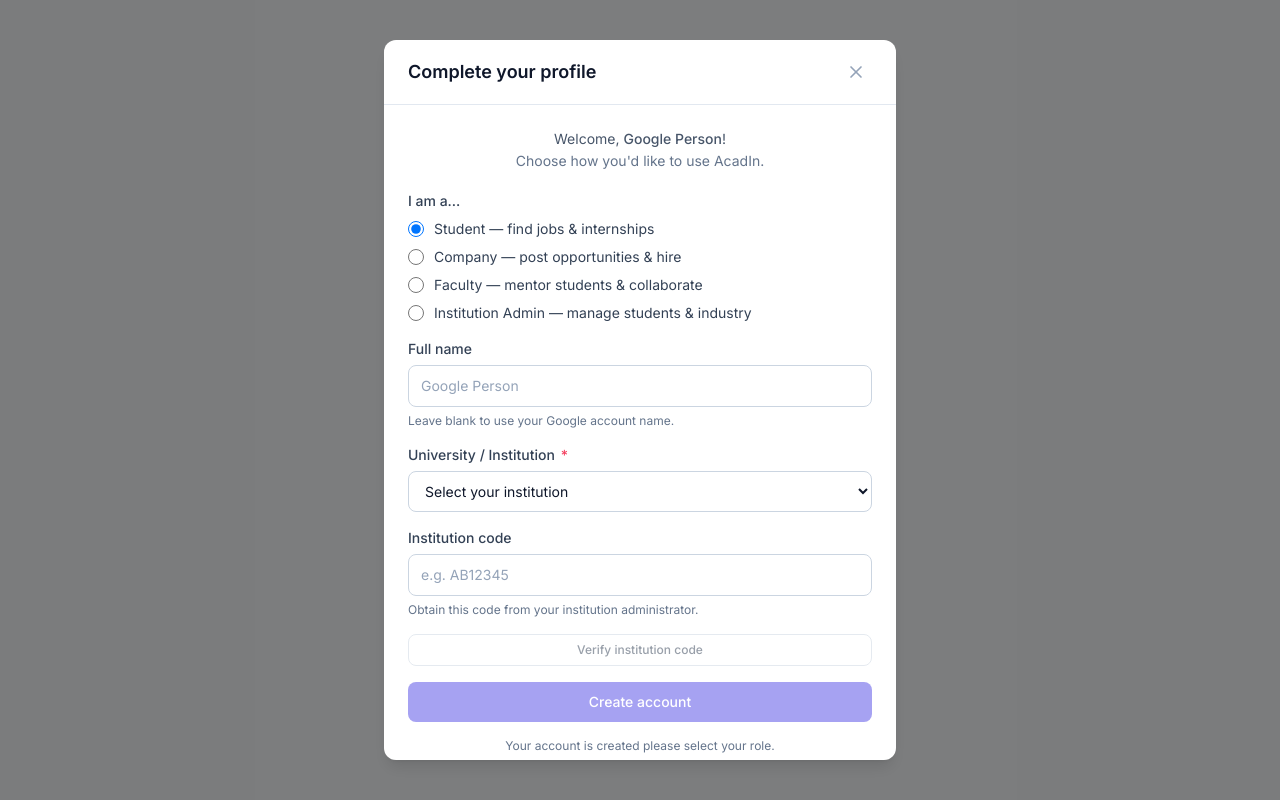
Test case: GoogleOnboardingModal — role switching in both directions › COMPANY → FACULTY → COMPANY: errors from one role do not linger on another
The width and height of the screenshot is (1280, 800).
Later steps or results of the test are not shown.
Click the radio button labelled "Company — post opportunities & hire": coordinates (416, 257) [408,249,424,265]
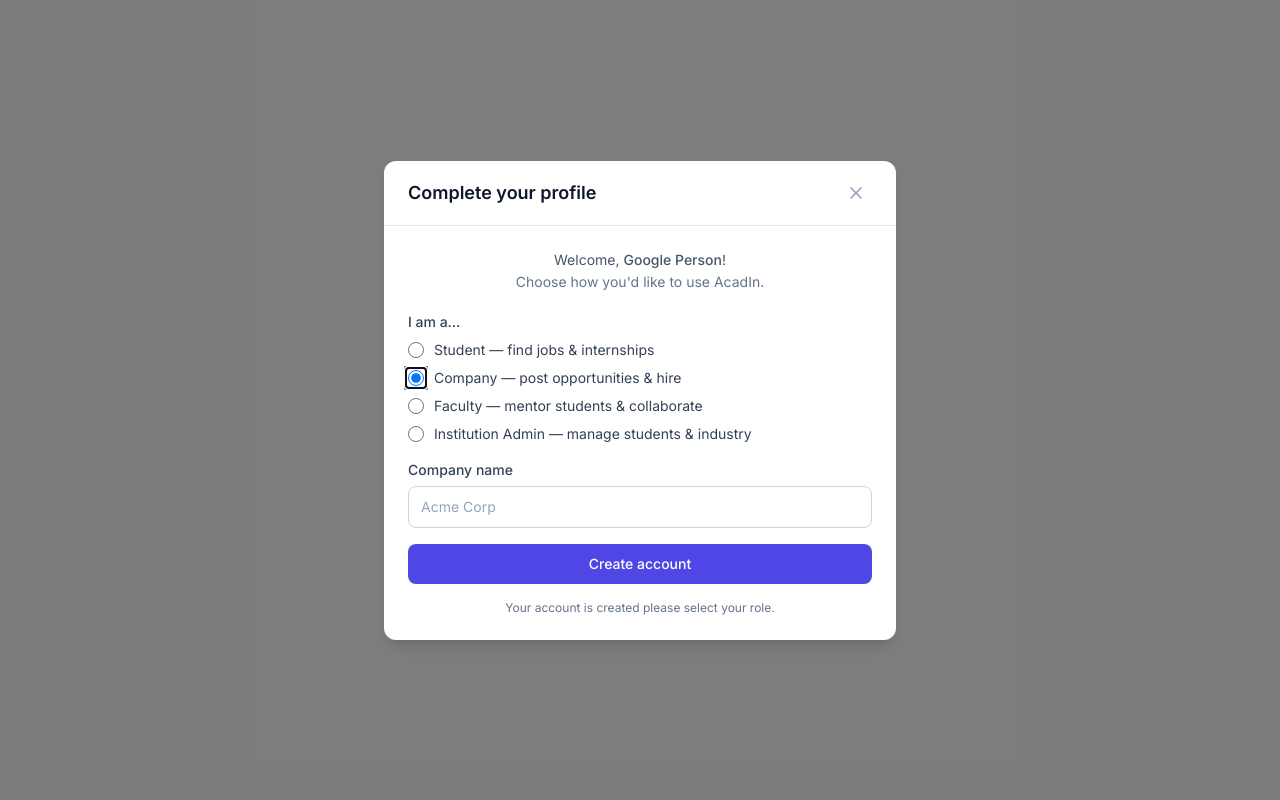
Click the button "Create account": coordinates (640, 564) [408,544,872,584]
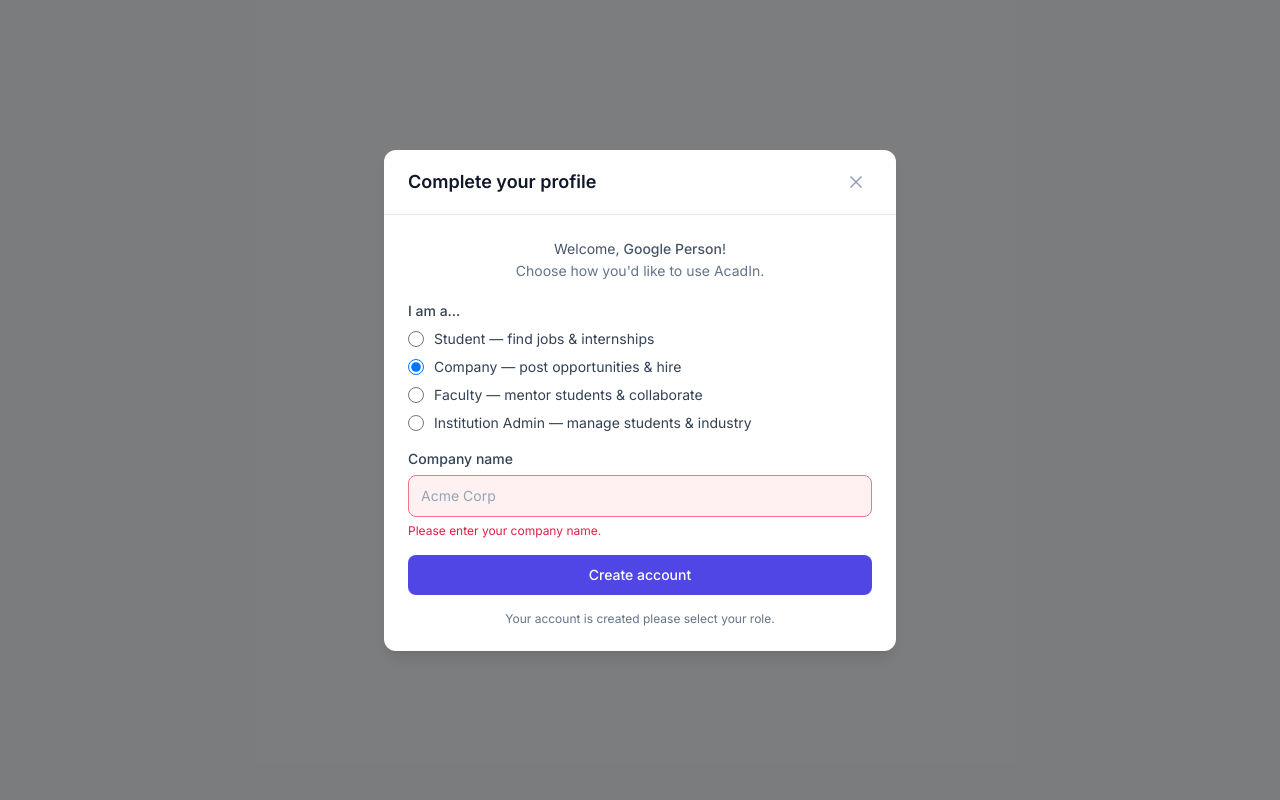
Now the text "Please enter your company name." is shown, box [408,522,601,538]
